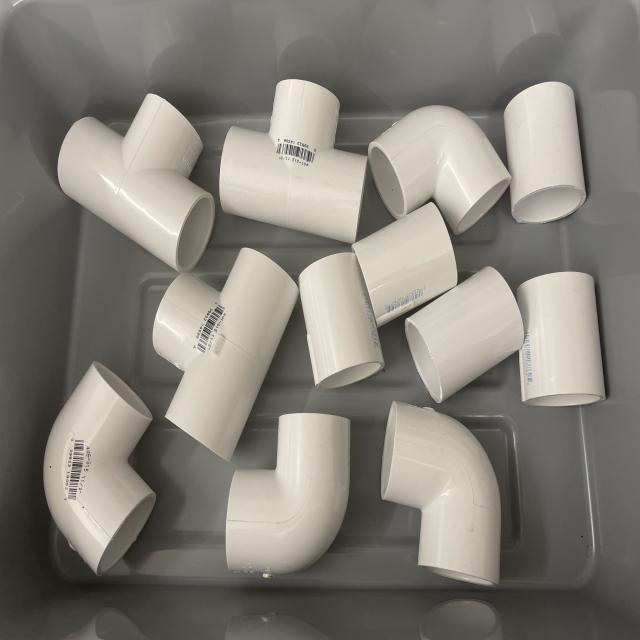L Joint: (43, 362, 158, 572), (381, 401, 502, 586), (224, 414, 353, 578), (370, 105, 512, 240)
T Joint: (153, 249, 299, 461), (56, 94, 218, 274), (219, 79, 368, 244)
